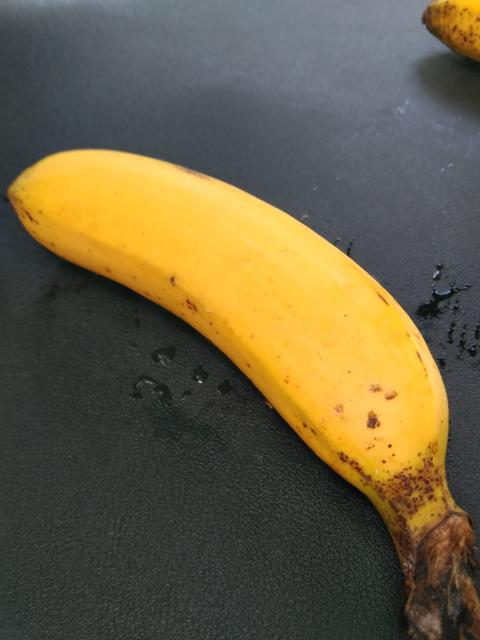freshripe: (23, 115, 460, 518)
